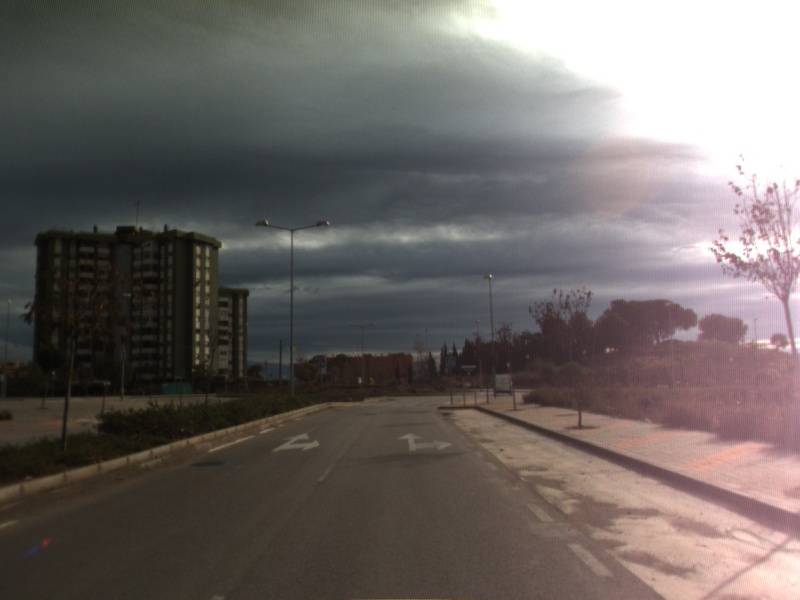STRAIGHT_RIGHT: (396, 431, 455, 453), (269, 430, 322, 454)
